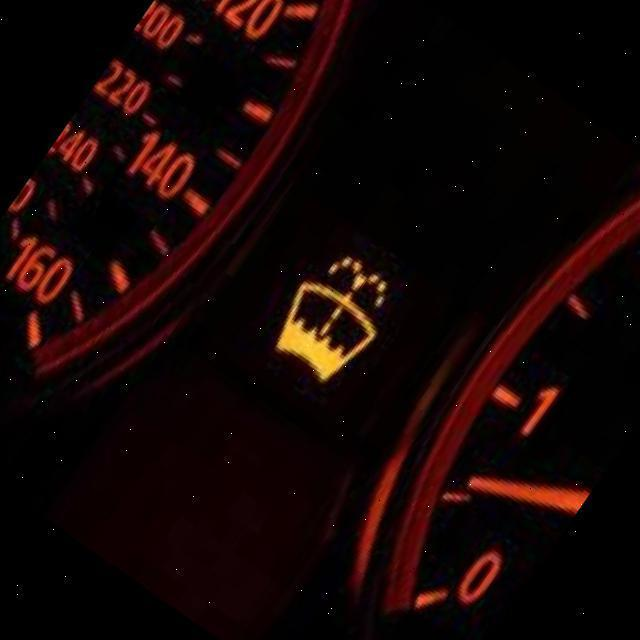Washer Fluid: (274, 254, 388, 382)
